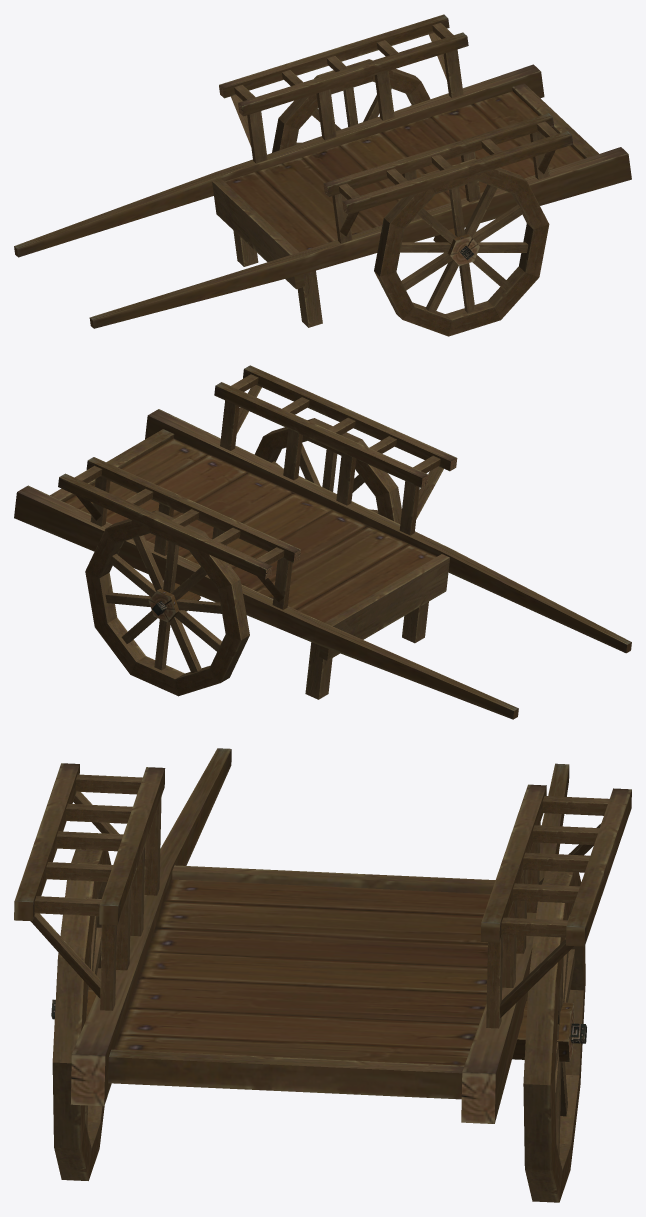
Rendered from ZZL_Item_13.FBX.
3 renders of one model, top to bottom at view 1: azimuth 30°, elevation 25°; view 2: azimuth 150°, elevation 25°; view 3: azimuth 270°, elevation 25°, orthographic. The views are drawn at different scales.
Parts seen in each view (by area): view 1: ZZL_Item_13; view 2: ZZL_Item_13; view 3: ZZL_Item_13.
Part boxes in pixels (bbox=[...]): ZZL_Item_13: bbox=[14, 14, 631, 336]; ZZL_Item_13: bbox=[14, 365, 631, 719]; ZZL_Item_13: bbox=[14, 748, 631, 1202].
Size of the model in its own units: 541 by 186 by 304.
Materials: 1 (1 with a texture image).
